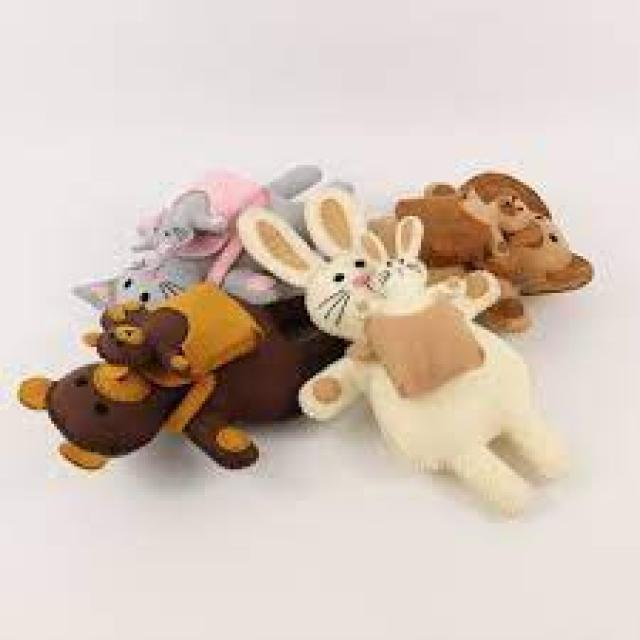soft-toy: (239, 187, 561, 513), (21, 286, 347, 469), (75, 166, 324, 309), (396, 174, 594, 295)
